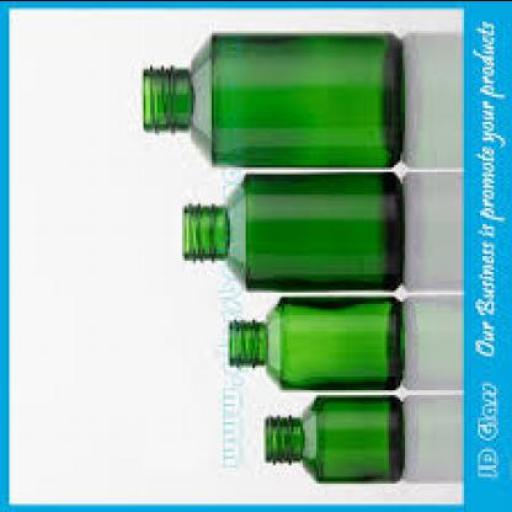glass: (142, 34, 402, 168), (180, 173, 402, 293), (228, 298, 402, 391), (262, 397, 403, 485)
